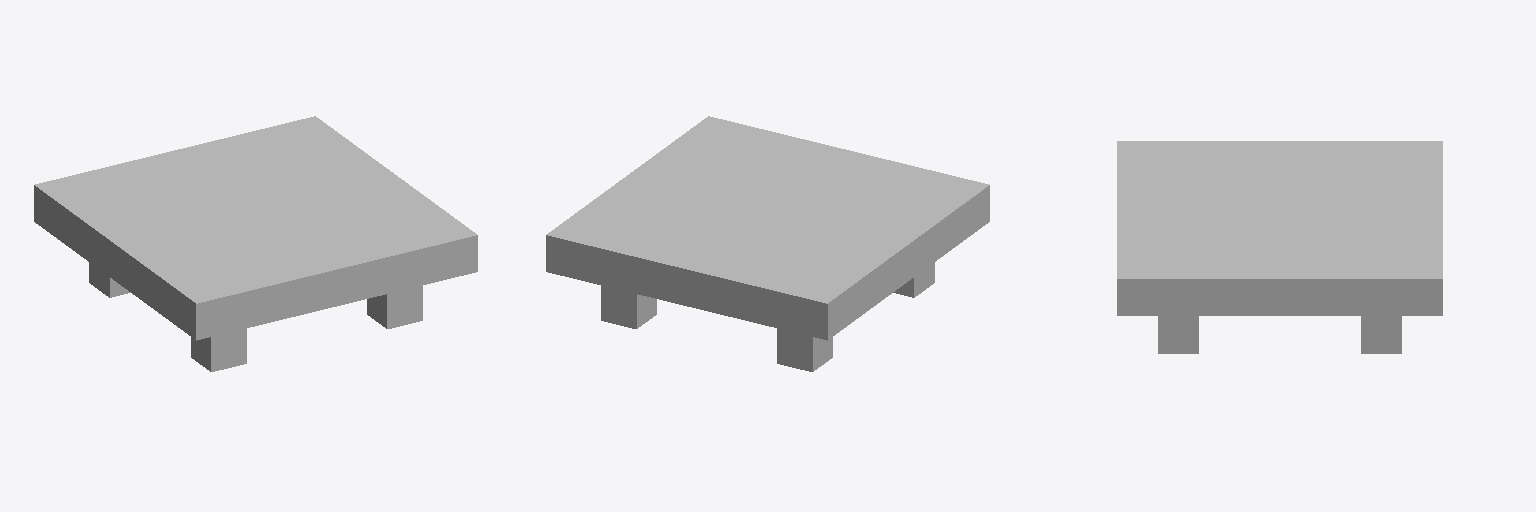
Rendered from LowStool.obj.
3 views of the same model, side by side, from view 1: azimuth 30°, elevation 25°; view 2: azimuth 150°, elevation 25°; view 3: azimuth 270°, elevation 25° (orthographic).
Parts seen in each view (by area): view 1: [number redacted]-928a-525b-c1d6-a708f8f96555, 5180a568-147e-8bcc-e426-[number redacted]bfed, 0c4a1dc0-0dba-927a-22af-3d87012f751e, 6248b3db-094d-ffc6-70cb-a0000e5097fb; view 2: [number redacted]-928a-525b-c1d6-a708f8f96555, 6248b3db-094d-ffc6-70cb-a0000e5097fb, 5624c223-4b94-a672-2693-9f3ba9dc2f05, 5180a568-147e-8bcc-e426-[number redacted]bfed; view 3: [number redacted]-928a-525b-c1d6-a708f8f96555, 0c4a1dc0-0dba-927a-22af-3d87012f751e, 5624c223-4b94-a672-2693-9f3ba9dc2f05.
Part boxes in pixels (bbox=[...]): [number redacted]-928a-525b-c1d6-a708f8f96555: bbox=[34, 116, 477, 340]; 5180a568-147e-8bcc-e426-[number redacted]bfed: bbox=[191, 328, 246, 371]; 0c4a1dc0-0dba-927a-22af-3d87012f751e: bbox=[367, 286, 422, 328]; 6248b3db-094d-ffc6-70cb-a0000e5097fb: bbox=[89, 262, 130, 297]; [number redacted]-928a-525b-c1d6-a708f8f96555: bbox=[546, 116, 989, 340]; 6248b3db-094d-ffc6-70cb-a0000e5097fb: bbox=[777, 328, 832, 371]; 5624c223-4b94-a672-2693-9f3ba9dc2f05: bbox=[601, 286, 656, 328]; 5180a568-147e-8bcc-e426-[number redacted]bfed: bbox=[893, 262, 934, 297]; [number redacted]-928a-525b-c1d6-a708f8f96555: bbox=[1117, 141, 1442, 315]; 0c4a1dc0-0dba-927a-22af-3d87012f751e: bbox=[1158, 316, 1198, 353]; 5624c223-4b94-a672-2693-9f3ba9dc2f05: bbox=[1361, 316, 1401, 353].
Size of the model in its own units: 16 by 5 by 16.